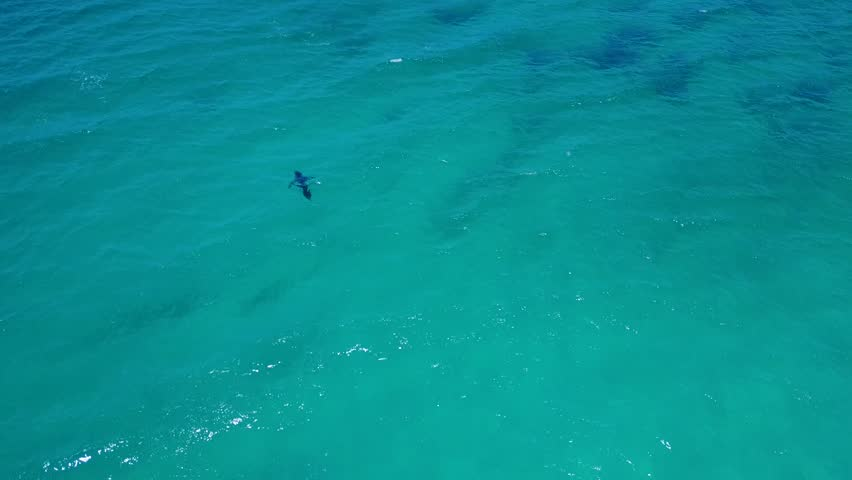shark: (285, 167, 318, 205)
